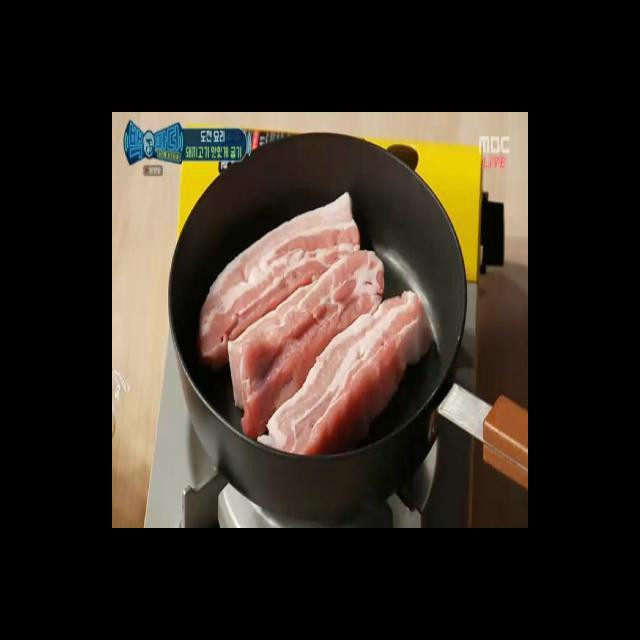pork: (202, 204, 438, 460)
